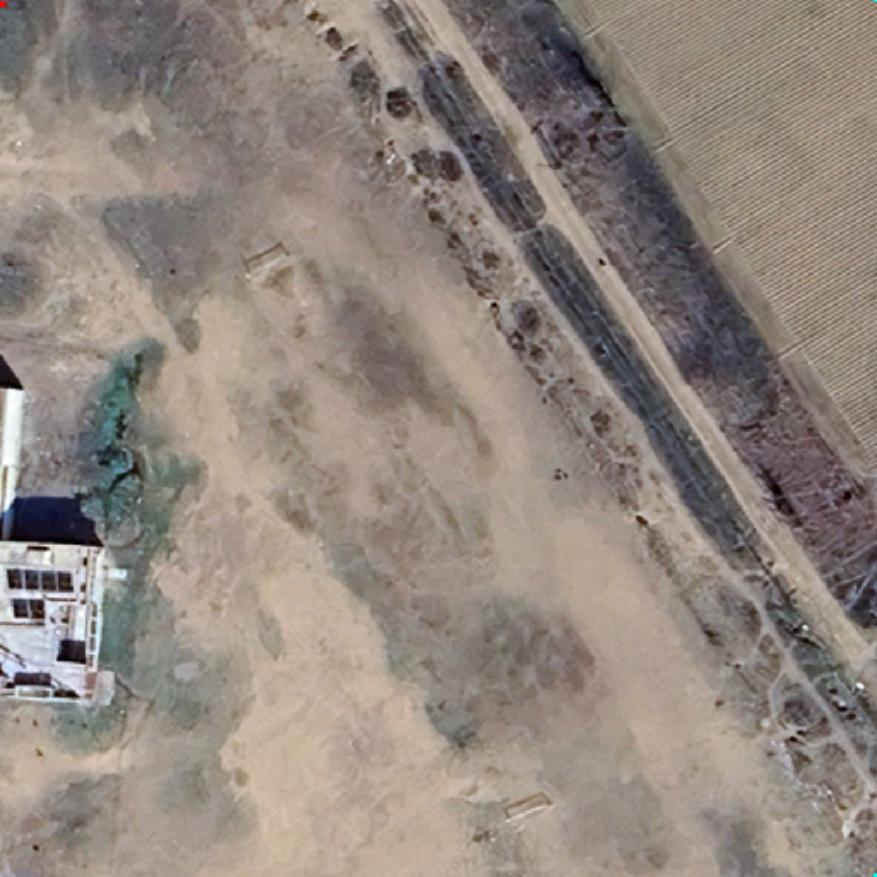Solarpanel: (0, 560, 80, 598), (7, 593, 50, 625)
